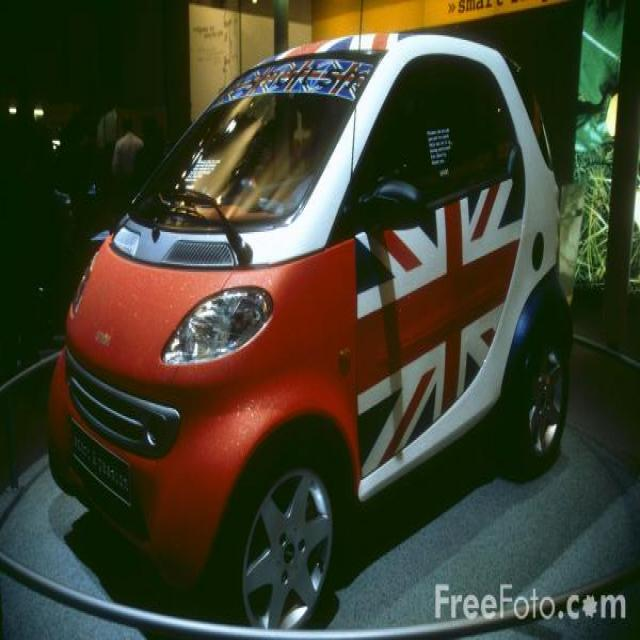Car: (42, 26, 580, 636)
